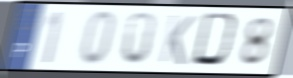0: (76, 9, 119, 69), (119, 10, 159, 68)
1: (42, 10, 64, 66)
8: (239, 16, 275, 67)
D: (189, 11, 243, 71)
K: (157, 12, 198, 68)
